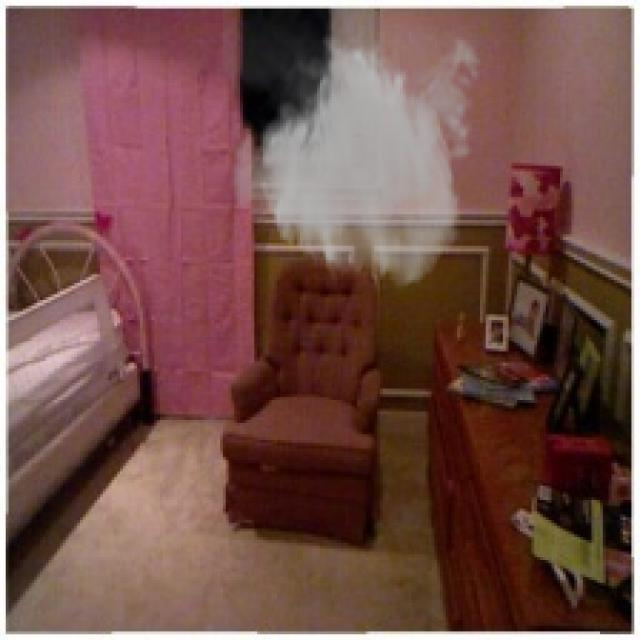Smoke: (223, 8, 488, 292)
